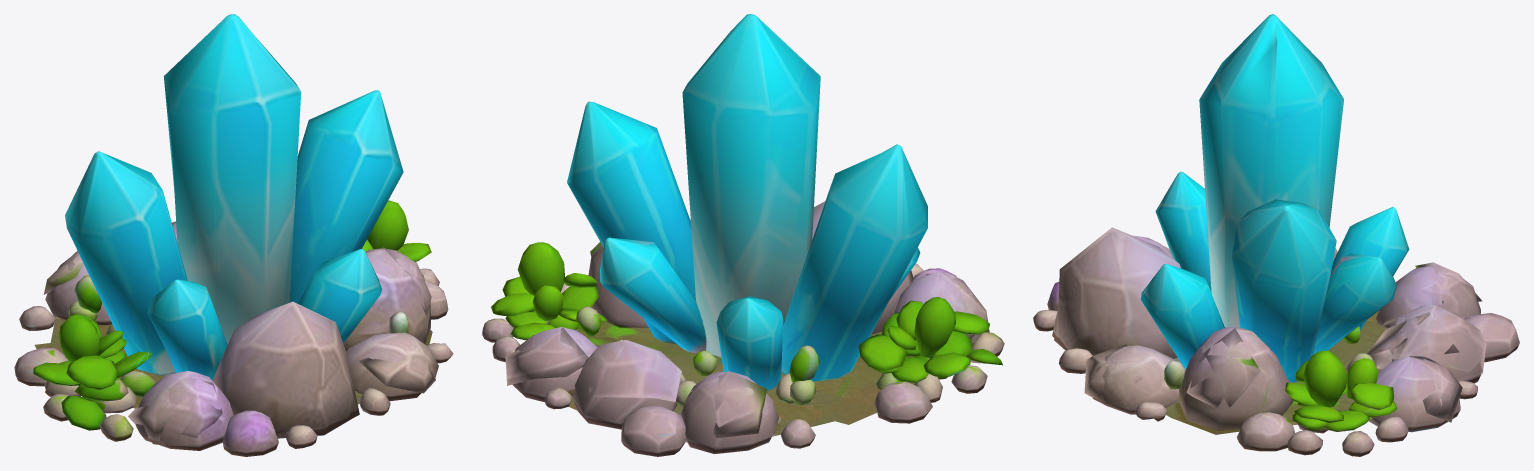
File: r1c4_cyan_crystal_cluster.glb
3 views of the same model, side by side, from view 1: azimuth 30°, elevation 25°; view 2: azimuth 150°, elevation 25°; view 3: azimuth 270°, elevation 25° (orthographic). The views are drawn at different scales.
Bounding box in the file's own units: 1 × 0.7715 × 0.998.
1 material, 1 textured.
